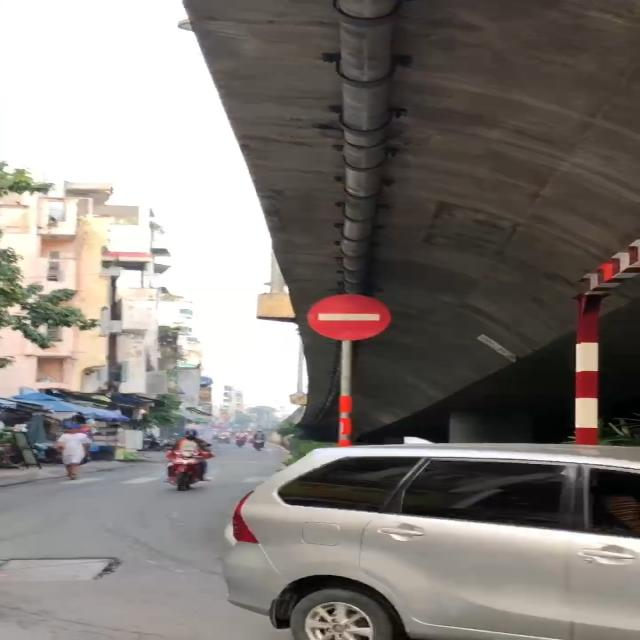Bien bao cam di nguoc chieu: (300, 291, 396, 344)
